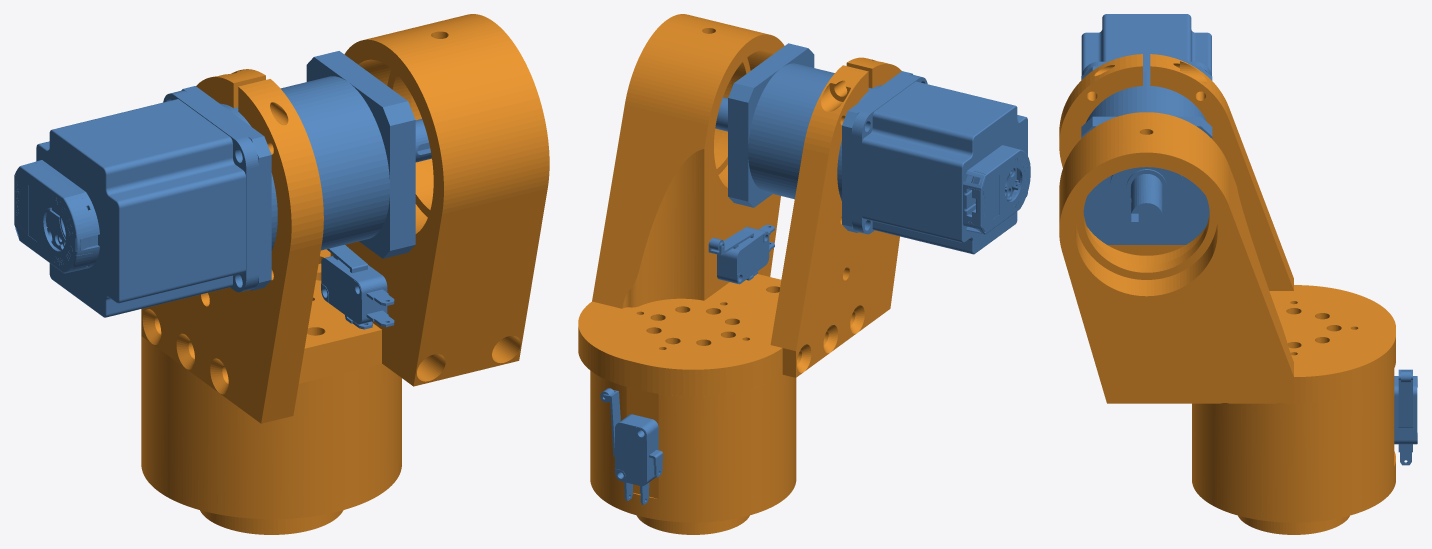
3 renders of one model, left to right at view 1: azimuth 30°, elevation 25°; view 2: azimuth 150°, elevation 25°; view 3: azimuth 270°, elevation 25°, orthographic. The views are drawn at different scales.
Visible parts, largest first — view 1: Motor 23HS22-2804d-HG50 (×6), J2 Turret Housing, J1 Turret Housing, J2 Motor Support, Encoder AMT-102V (×2), J1 Turret Platform, Limit Switch SV-166-1C25_Valor predeterminado, J1 Spindle; view 2: Motor 23HS22-2804d-HG50 (×6), J2 Turret Housing, J1 Turret Housing, J2 Motor Support, J1 Turret Platform, Limit Switch SV-166-1C25_Valor predeterminado (×2), Encoder AMT-102V (×2), J1 Spindle; view 3: J2 Turret Housing, J1 Turret Housing, Motor 23HS22-2804d-HG50 (×4), J1 Turret Platform, J2 Motor Support, Limit Switch SV-166-1C25_Valor predeterminado, J1 Spindle.
Part boxes in pixels (<box>): Motor 23HS22-2804d-HG50 (×6): <box>36,51,415,317</box>; J2 Turret Housing: <box>330,14,549,386</box>; J1 Turret Housing: <box>141,309,401,519</box>; J2 Motor Support: <box>141,69,323,423</box>; Encoder AMT-102V (×2): <box>14,160,99,273</box>; J1 Turret Platform: <box>298,249,381,383</box>; Limit Switch SV-166-1C25_Valor predeterminado: <box>321,245,394,329</box>; J1 Spindle: <box>200,510,343,534</box>; Motor 23HS22-2804d-HG50 (×6): <box>728,43,1027,254</box>; J2 Turret Housing: <box>592,14,784,308</box>; J1 Turret Housing: <box>590,371,796,522</box>; J2 Motor Support: <box>770,57,901,377</box>; J1 Turret Platform: <box>578,274,782,396</box>; Limit Switch SV-166-1C25_Valor predeterminado (×2): <box>600,224,774,504</box>; Encoder AMT-102V (×2): <box>963,145,1030,234</box>; J1 Spindle: <box>636,515,749,534</box>; J2 Turret Housing: <box>1059,112,1293,403</box>; J1 Turret Housing: <box>1192,369,1395,522</box>; Motor 23HS22-2804d-HG50 (×4): <box>1081,14,1212,244</box>; J1 Turret Platform: <box>1156,285,1395,403</box>; J2 Motor Support: <box>1059,54,1293,290</box>; Limit Switch SV-166-1C25_Valor predeterminado: <box>1394,369,1417,465</box>; J1 Spindle: <box>1238,515,1349,534</box>.
Bounding box in the file's own units: 0.173 × 0.1561 × 0.1986.
